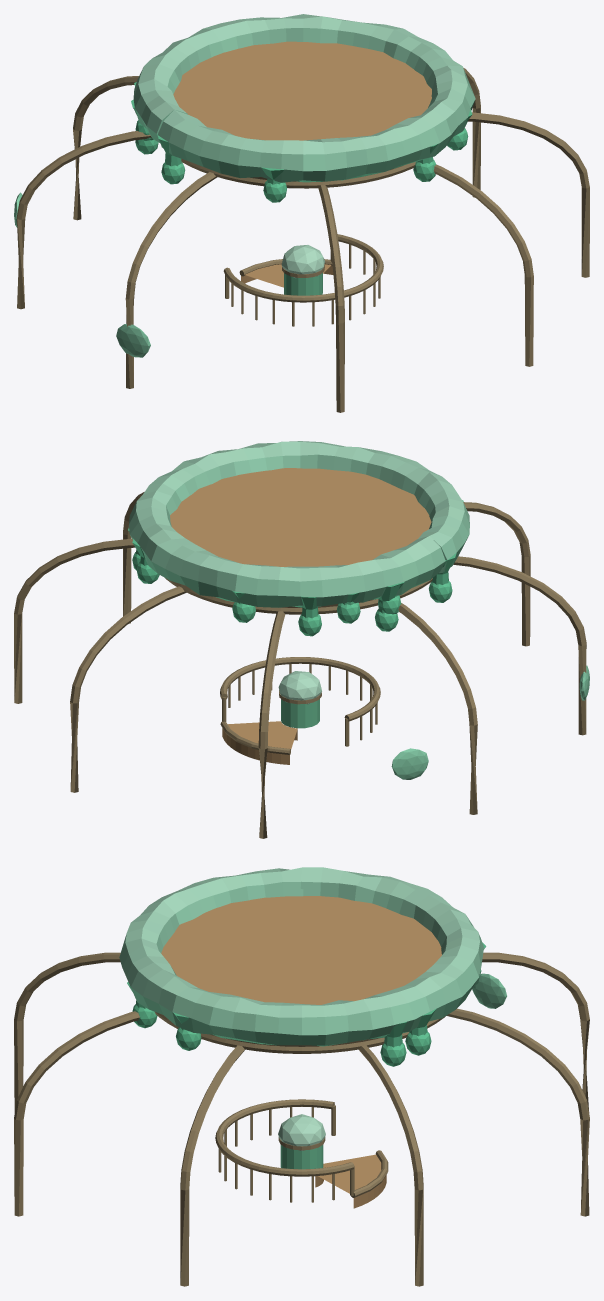
The model's file is goo_jar_trim_4_top.fbx.
The picture shows the model from 3 angles, top to bottom: view 1: azimuth 30°, elevation 25°; view 2: azimuth 150°, elevation 25°; view 3: azimuth 270°, elevation 25°; orthographic projection. The views are drawn at different scales.
Visible parts, largest first — view 1: goo_jar_trim_4_top; view 2: goo_jar_trim_4_top; view 3: goo_jar_trim_4_top.
Part boxes in pixels (x1,y1,x2,y2): goo_jar_trim_4_top: [14, 14, 589, 412]; goo_jar_trim_4_top: [14, 441, 589, 838]; goo_jar_trim_4_top: [14, 867, 589, 1286].
Bounding box in the file's own units: 41.08 × 19.19 × 40.75.
